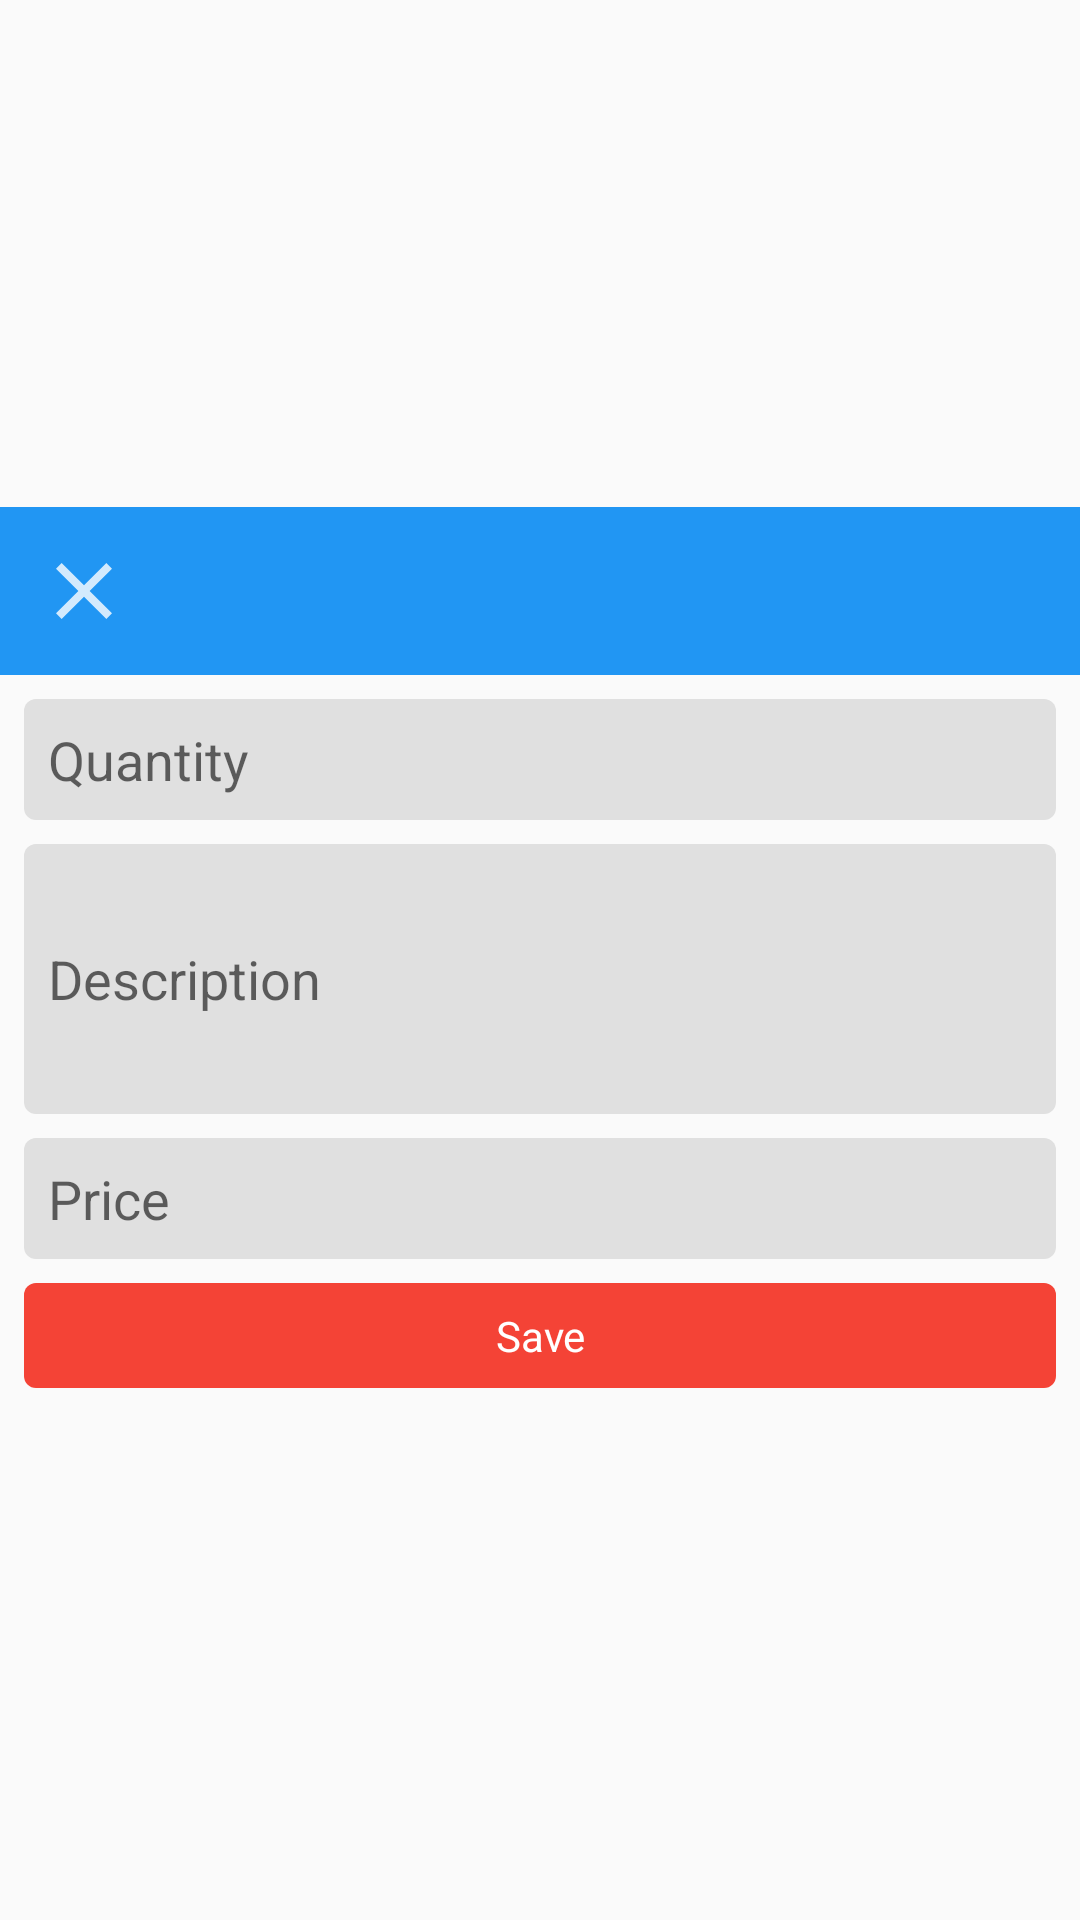

Icons on this 1080x1920 Android screen, each with the point to tap as point (x, y):
close: point (84, 591)
